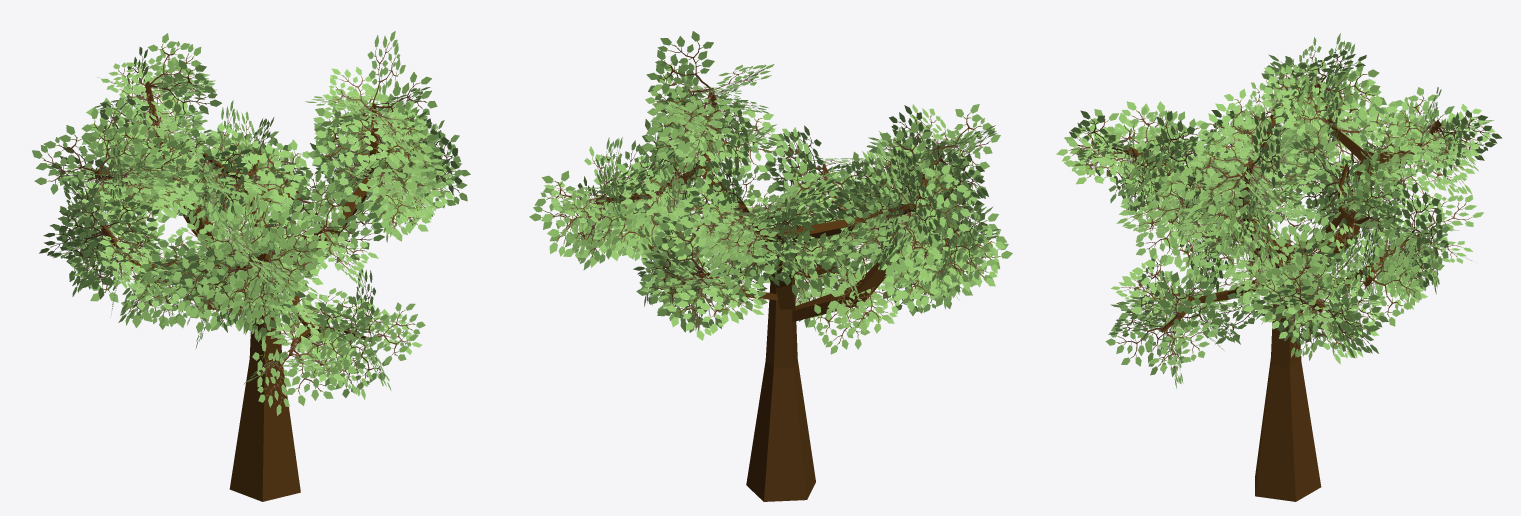
The model's file is Tree_Green_01.fbx.
3 renders of one model, left to right at view 1: azimuth 30°, elevation 25°; view 2: azimuth 150°, elevation 25°; view 3: azimuth 270°, elevation 25°, orthographic. The views are drawn at different scales.
Parts seen in each view (by area): view 1: Tree_green01; view 2: Tree_green01; view 3: Tree_green01.
Part boxes in pixels (bbox=[...]): Tree_green01: bbox=[32, 31, 470, 501]; Tree_green01: bbox=[529, 31, 1012, 501]; Tree_green01: bbox=[1056, 33, 1502, 501].
Size of the model in its own units: 1411 by 1316 by 1232.
